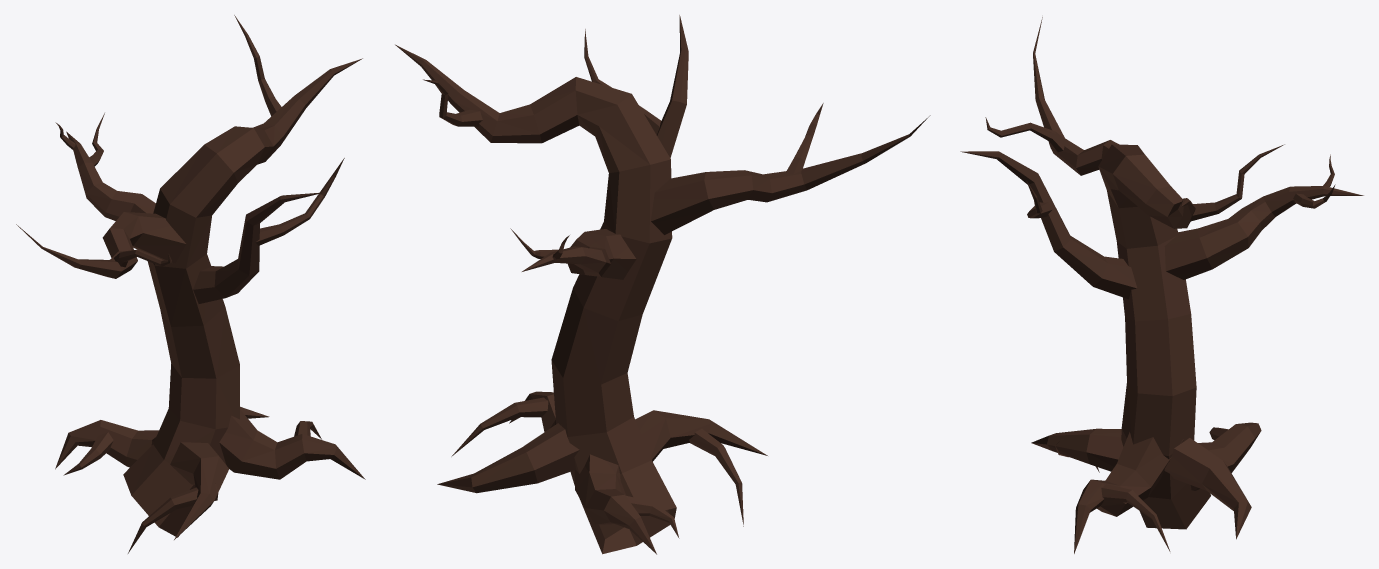
File: tree.dae
The picture shows the model from 3 angles, left to right: view 1: azimuth 30°, elevation 25°; view 2: azimuth 150°, elevation 25°; view 3: azimuth 270°, elevation 25°; orthographic projection. The views are drawn at different scales.
Parts seen in each view (by area): view 1: DeadTree; view 2: DeadTree; view 3: DeadTree.
Boxes of the visible parts, box(x1,y1,x2,y2) form: DeadTree: box(16, 15, 365, 553); DeadTree: box(395, 15, 930, 554); DeadTree: box(960, 17, 1363, 553).
Bounding box in the file's own units: 3.42 × 2.86 × 3.46.
